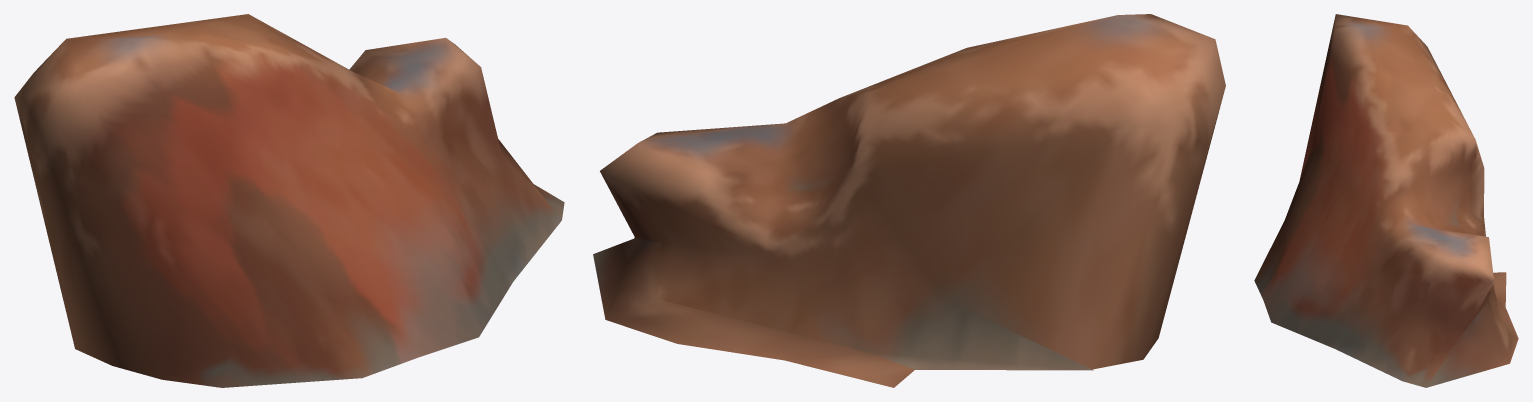
The model's file is rock_new02.FBX.
3 renders of one model, left to right at view 1: azimuth 30°, elevation 25°; view 2: azimuth 150°, elevation 25°; view 3: azimuth 270°, elevation 25°, orthographic. The views are drawn at different scales.
Parts seen in each view (by area): view 1: rock_new02; view 2: rock_new02; view 3: rock_new02.
Boxes of the visible parts, x1,y1,x2,y2 form: rock_new02: (14,14,564,387); rock_new02: (593,14,1225,387); rock_new02: (1254,14,1518,387).
Size of the model in its own units: 528 by 279 by 320.
Materials: 1 (1 with a texture image).
